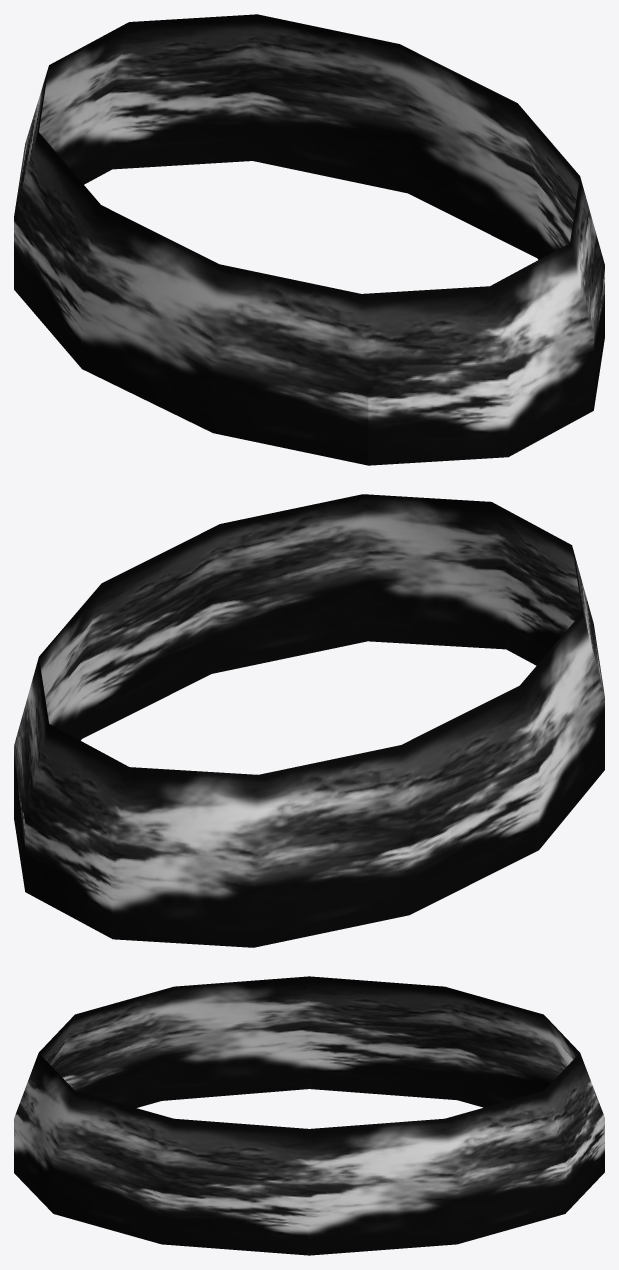
The model's file is gsctk01.obj.
3 views of the same model, one above another, from view 1: azimuth 30°, elevation 25°; view 2: azimuth 150°, elevation 25°; view 3: azimuth 270°, elevation 25° (orthographic). The views are drawn at different scales.
Visible parts, largest first — view 1: gsctk01; view 2: gsctk01; view 3: gsctk01.
Boxes of the visible parts, x1,y1,x2,y2 form: gsctk01: [14, 14, 604, 465]; gsctk01: [14, 494, 604, 947]; gsctk01: [14, 976, 604, 1255].
Size of the model in its own units: 5584 by 1871 by 8374.
